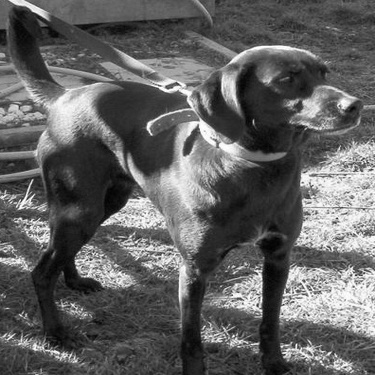dog: (2, 1, 366, 373)
